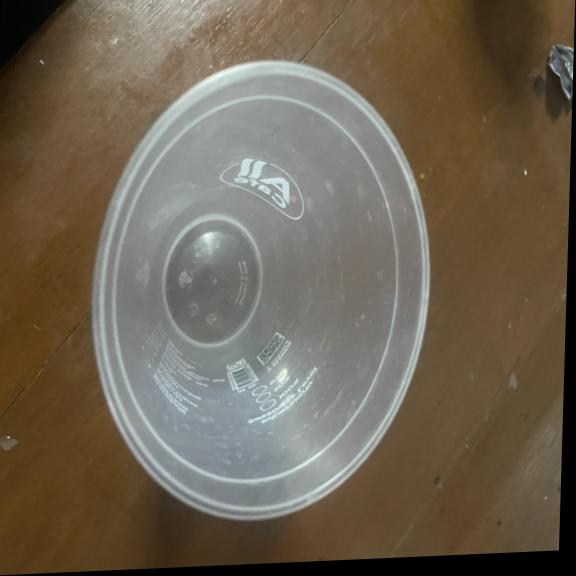Plastik: (92, 62, 428, 519)
